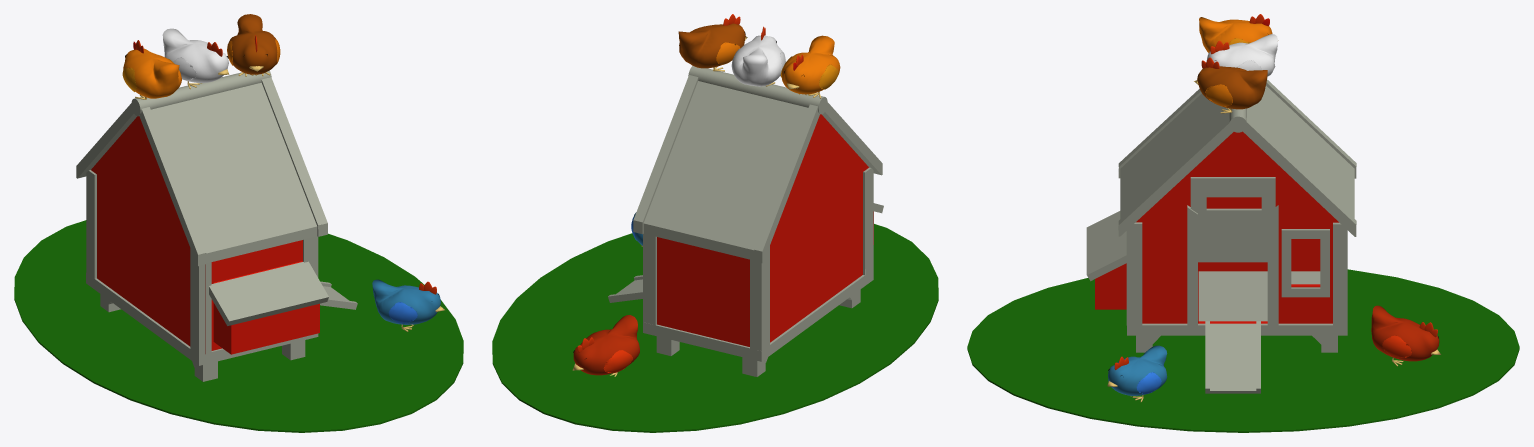
The model's file is galinheiro4.gltf.
3 views of the same model, side by side, from view 1: azimuth 30°, elevation 25°; view 2: azimuth 150°, elevation 25°; view 3: azimuth 270°, elevation 25° (orthographic). The views are drawn at different scales.
Parts seen in each view (by area): view 1: chao, telhado, Parede de tras, parede da caixinha, Parte de baixo, galinha_azul, galinha_branca, galinha_laranja, galinha_marrom, rampinha; view 2: chao, telhado, Parede de tras, Parede vazia, Parte de baixo, galinha_vermelha, galinha_marrom, galinha_laranja, galinha_branca, rampinha, Parede frente; view 3: chao, Parede frente, telhado, Parte de baixo, rampinha, parede da caixinha, galinha_vermelha, galinha_marrom, galinha_azul, galinha_branca, galinha_laranja, Parede de tras.
Part boxes in pixels (box(x1,y1,x2,y2)): chao: box(14, 220, 463, 432); telhado: box(76, 70, 327, 266); Parede de tras: box(86, 116, 205, 355); parede da caixinha: box(205, 238, 328, 354); Parte de baixo: box(86, 273, 318, 381); galinha_azul: box(372, 279, 444, 331); galinha_branca: box(162, 28, 229, 89); galinha_laranja: box(122, 40, 181, 99); galinha_marrom: box(227, 14, 280, 76); rampinha: box(320, 281, 357, 309); chao: box(492, 224, 938, 432); telhado: box(633, 66, 882, 263); Parede de tras: box(758, 114, 873, 351); Parede vazia: box(647, 234, 757, 349); Parte de baixo: box(643, 269, 873, 376); galinha_vermelha: box(572, 315, 639, 376); galinha_marrom: box(678, 14, 747, 71); galinha_laranja: box(780, 35, 840, 98); galinha_branca: box(731, 26, 785, 86); rampinha: box(608, 275, 642, 302); Parede frente: box(643, 233, 647, 322); chao: box(967, 269, 1519, 432); Parede frente: box(1126, 131, 1347, 331); telhado: box(1118, 79, 1356, 236); Parte de baixo: box(1127, 271, 1347, 352); rampinha: box(1205, 321, 1260, 393); parede da caixinha: box(1086, 211, 1126, 309); galinha_vermelha: box(1371, 305, 1440, 366); galinha_marrom: box(1194, 57, 1267, 113); galinha_azul: box(1107, 345, 1167, 402); galinha_branca: box(1206, 34, 1277, 76); galinha_laranja: box(1199, 14, 1278, 52); Parede de tras: box(1198, 239, 1320, 271).
Size of the model in its own units: 4.53 by 3.66 by 6.28.
